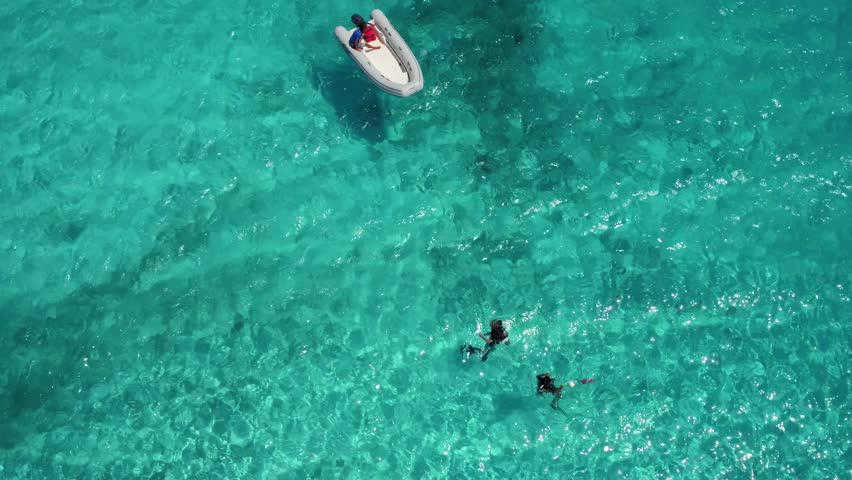human: (482, 318, 510, 358), (535, 372, 563, 404)
